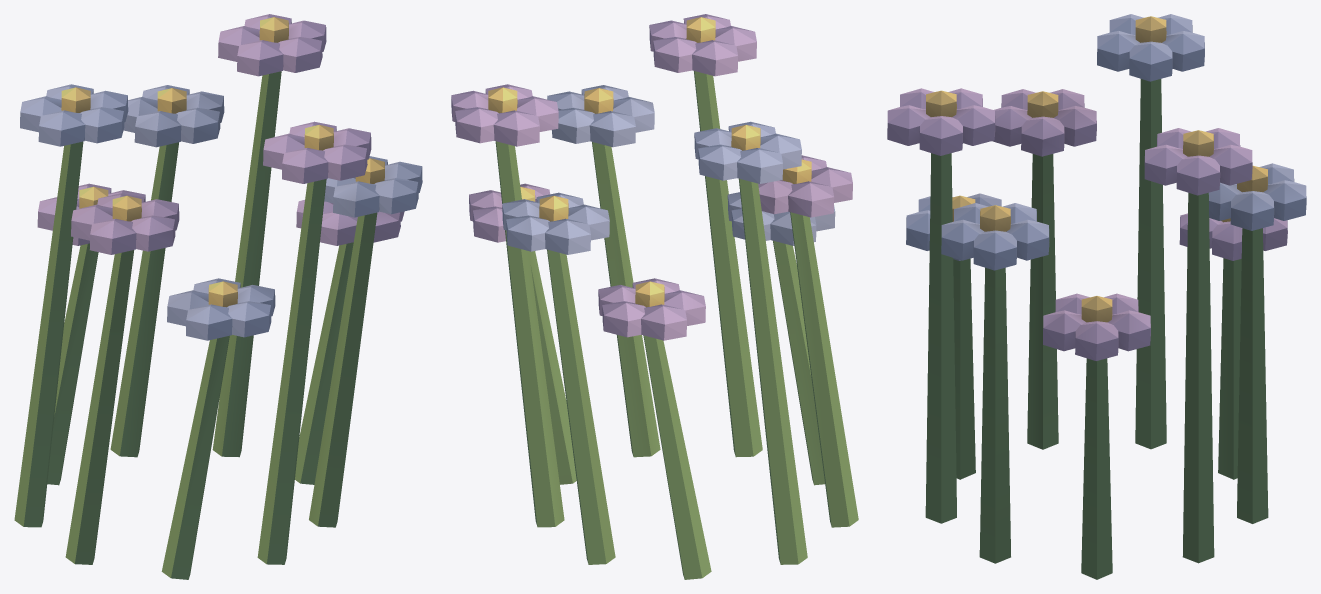
The model's file is find_meadow_flax.glb.
3 views of the same model, side by side, from view 1: azimuth 30°, elevation 25°; view 2: azimuth 150°, elevation 25°; view 3: azimuth 270°, elevation 25° (orthographic). The views are drawn at different scales.
Visible parts, largest first — view 1: Wiesenflachs · violettblaue Blüten; view 2: Wiesenflachs · violettblaue Blüten; view 3: Wiesenflachs · violettblaue Blüten.
Boxes of the visible parts, x1,y1,x2,y2 form: Wiesenflachs · violettblaue Blüten: (14,14,422,579); Wiesenflachs · violettblaue Blüten: (451,14,858,579); Wiesenflachs · violettblaue Blüten: (887,14,1306,579).
Size of the model in its own units: 0.584 by 0.6614 by 0.5573.
